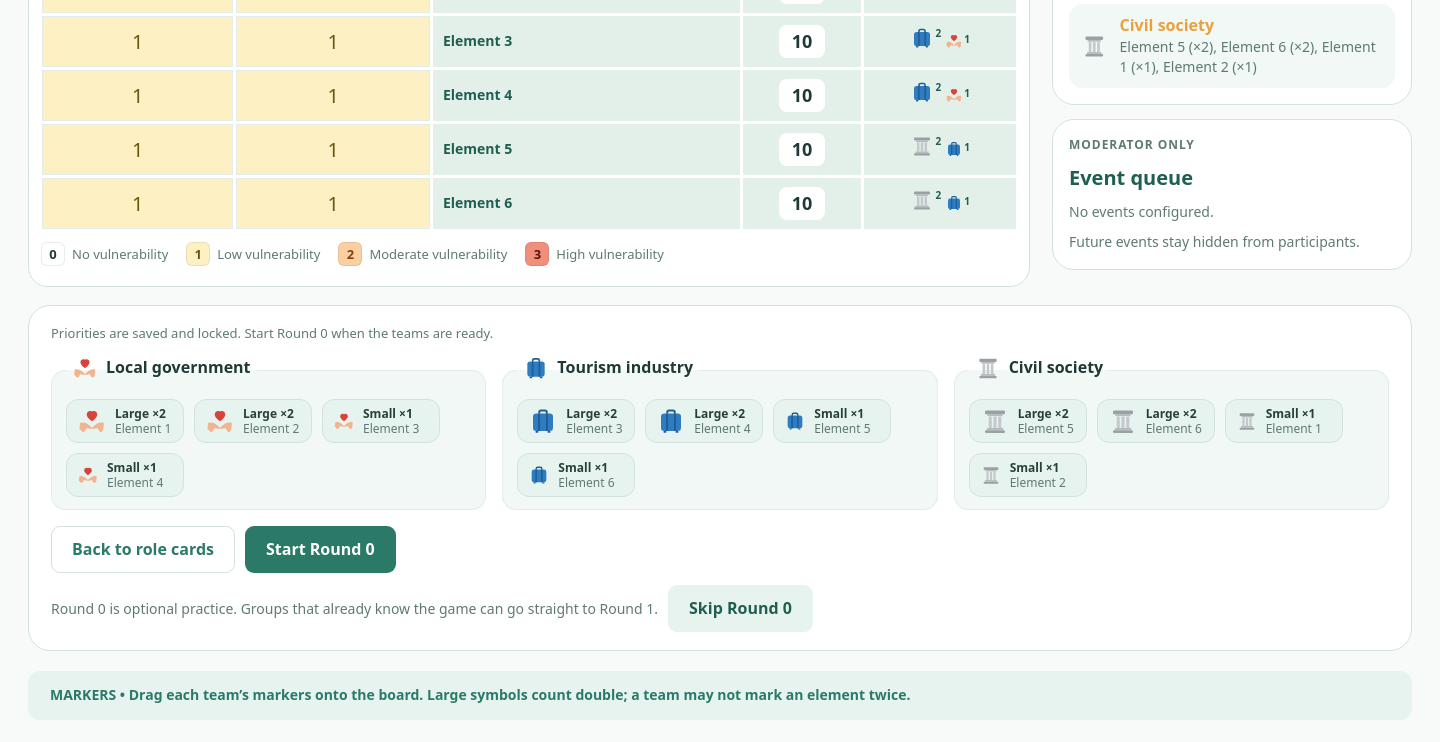
ModeratorPage › lets the moderator skip Round 0 from the priorities step, after confirming
The image size is (1440, 742).
(page scrolled)
What coordinates should you click on to do the following:
click the button "Skip Round 0"
I would click on:
 (740, 609)
Its box is [668, 585, 813, 632].
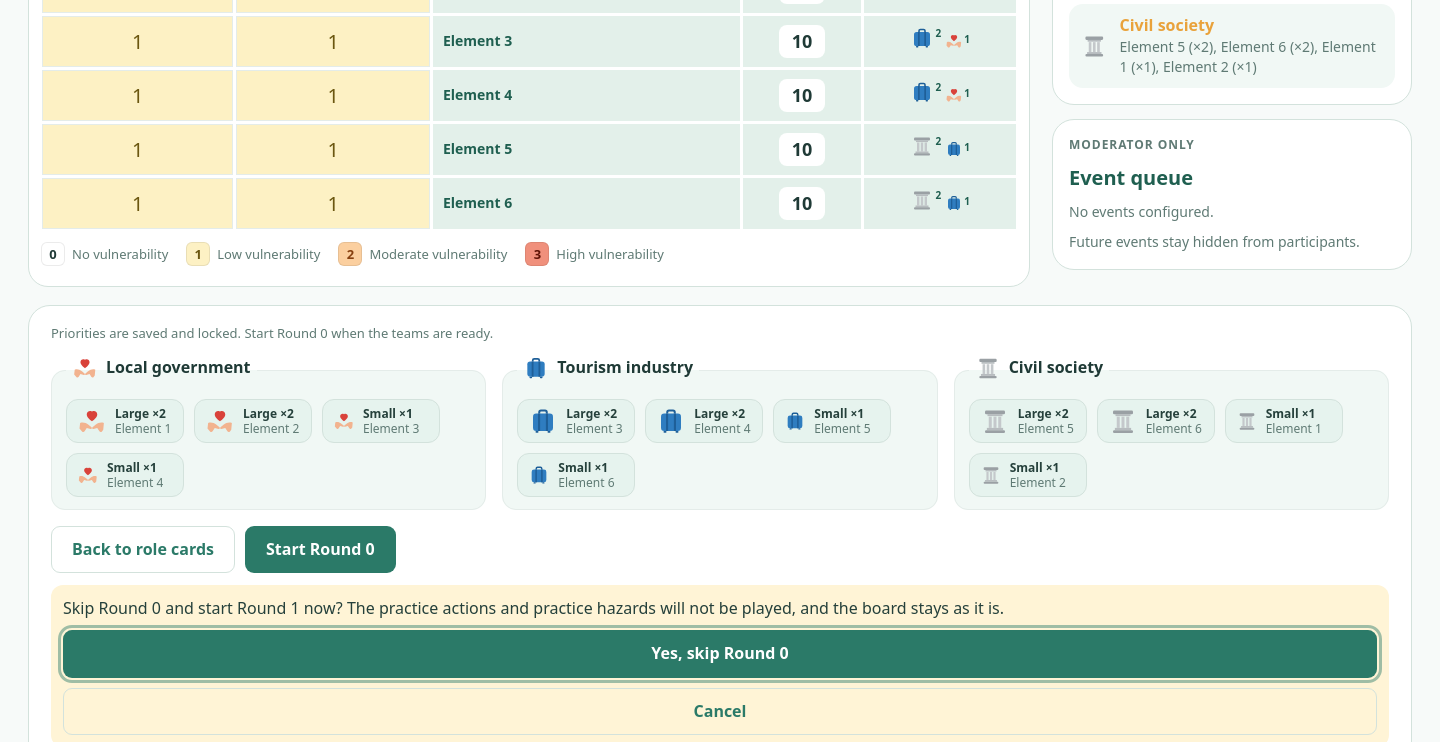
Expected: the dialog shows "Skip Round 0 and start Round 1 now?", [63, 597, 1004, 619]
What coordinates should you click on to do the following:
click the button "Cancel"
I would click on:
 (720, 711)
Its box is [63, 688, 1377, 735].
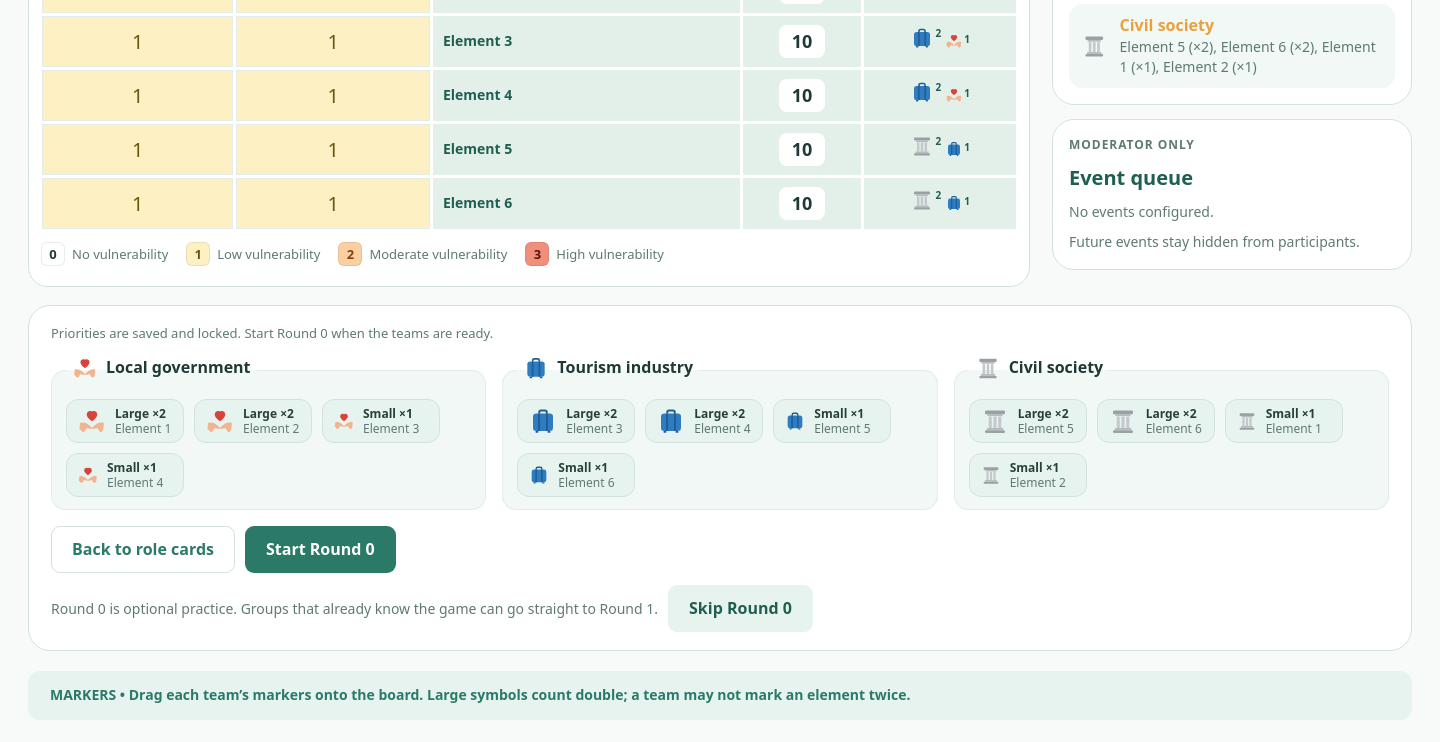
What coordinates should you click on to do the following:
click the button "Skip Round 0"
I would click on:
 (740, 609)
Its box is [668, 585, 813, 632].
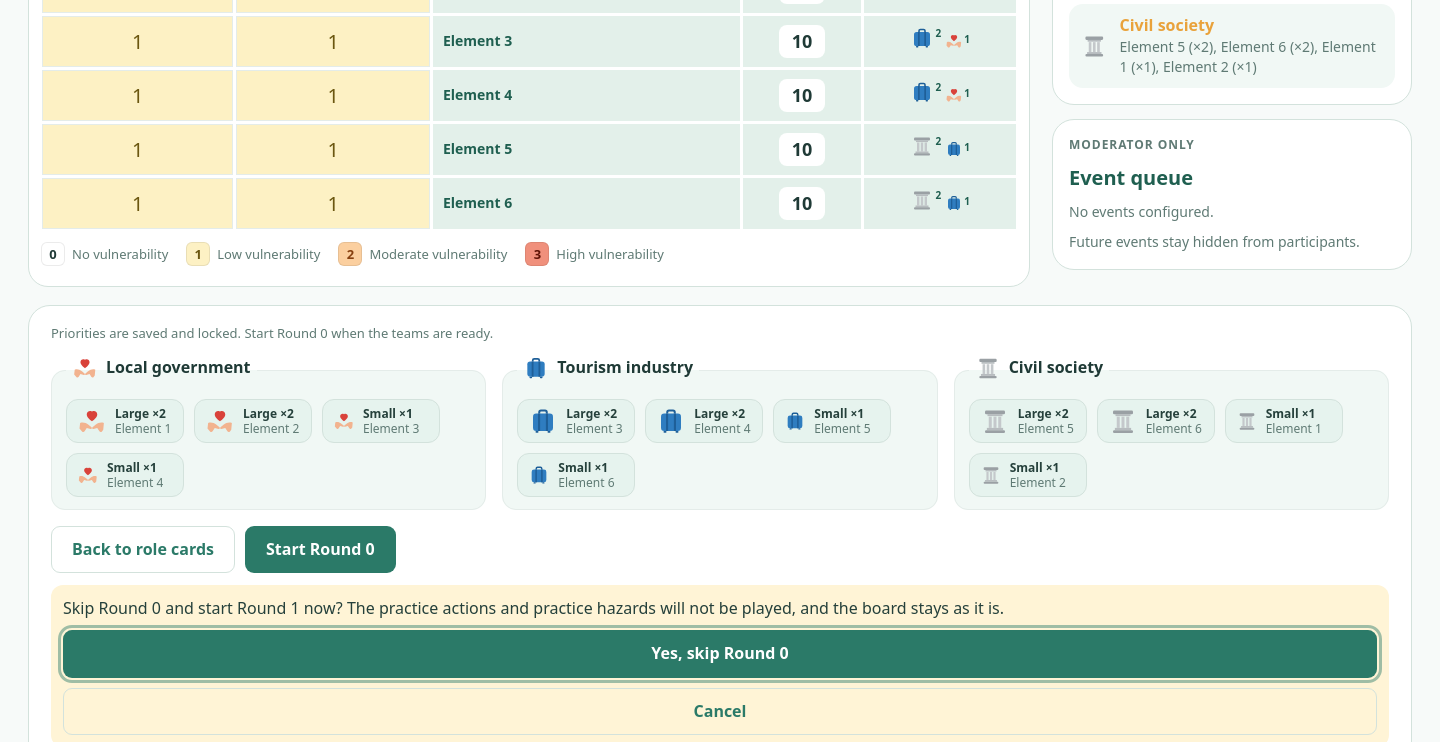
What coordinates should you click on to do the following:
click the button "Yes, skip Round 0"
I would click on:
 (720, 654)
Its box is [63, 630, 1377, 678].
(page scrolled)
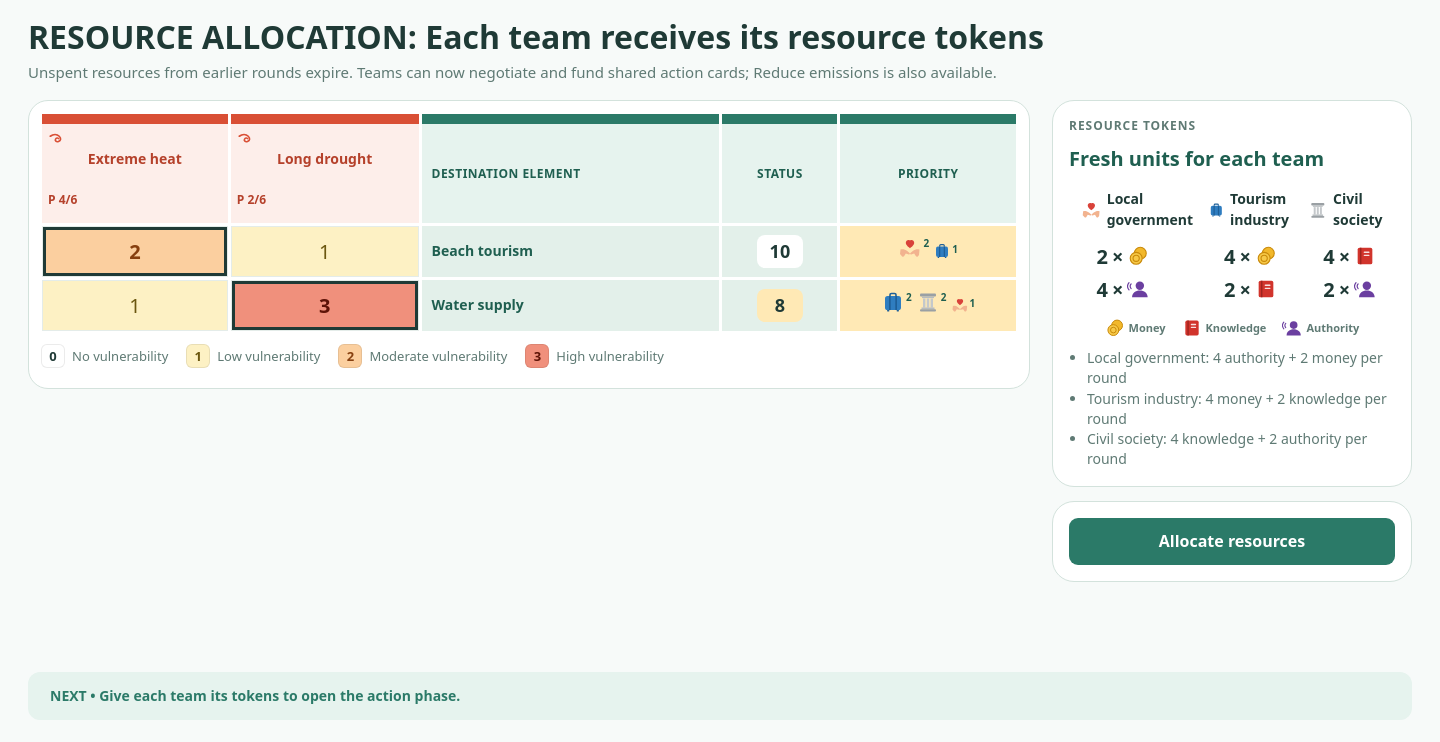
Expected: the heading "RESOURCE ALLOCATION: Each team receives its resource tokens" is shown, [28, 15, 1044, 58]
